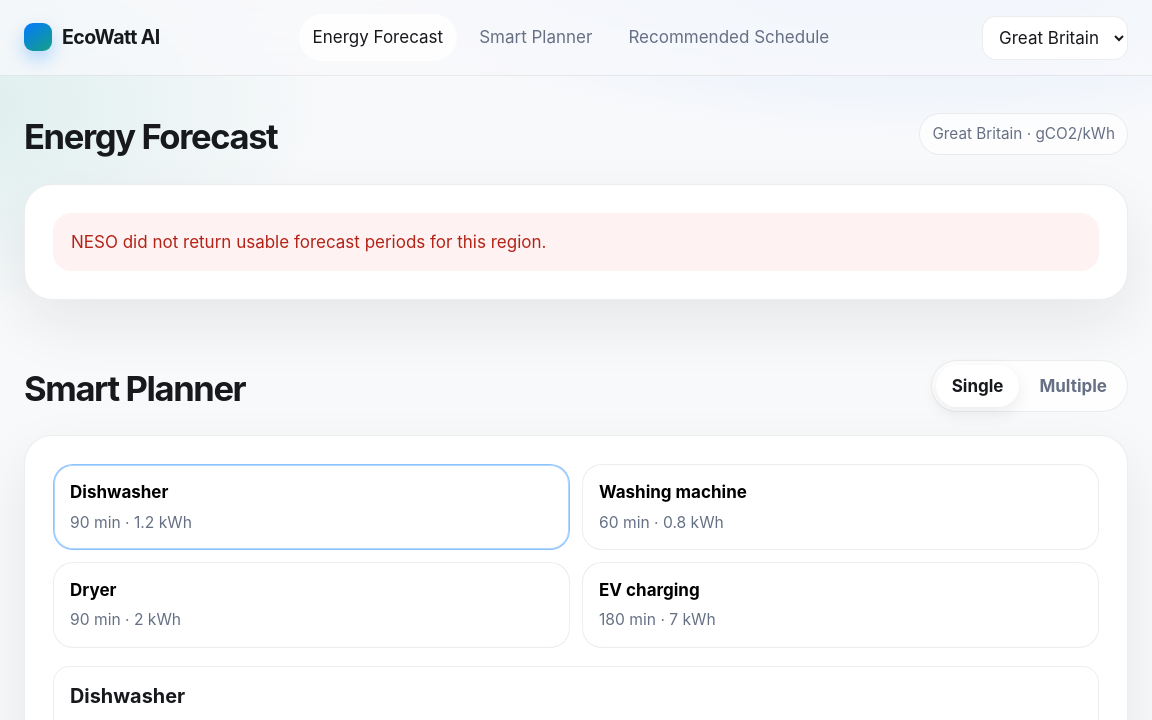
Test case: EcoWatt site flow › reloads the forecast when the region changes
Step 1. Select "London" in the dropdown named "Forecast region" → [1055, 38], box [982,16,1128,60]
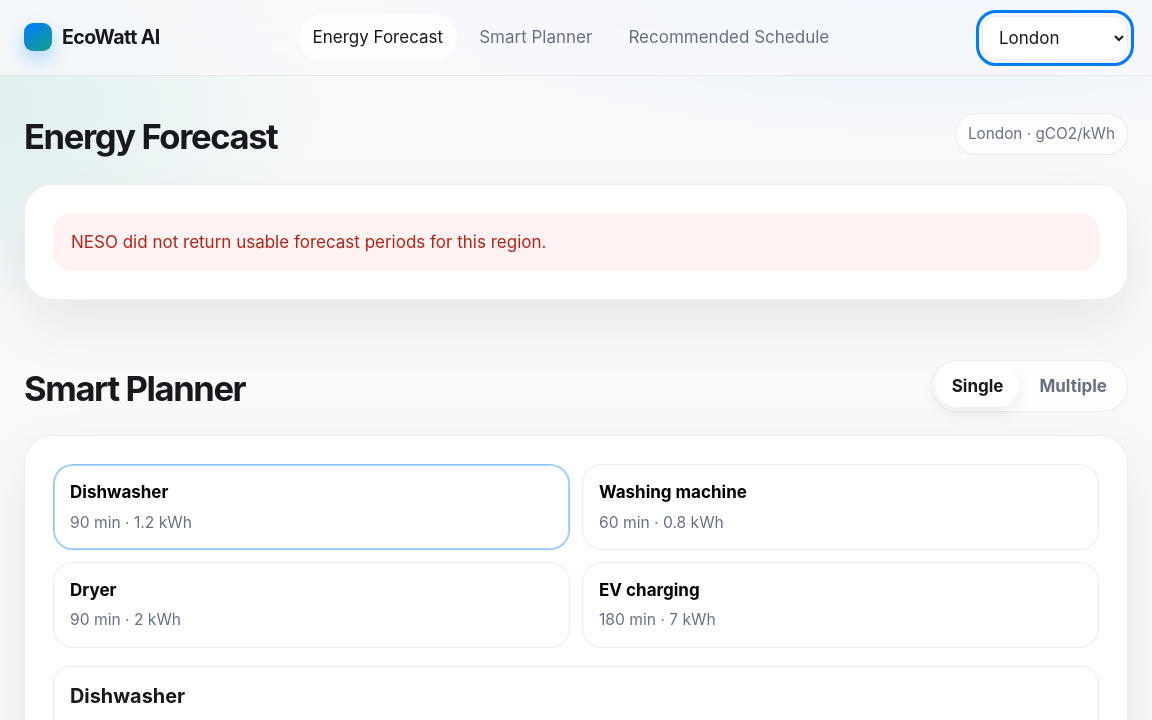
Expected: the text "London · gCO2/kWh" is shown, [955,113,1128,155]
